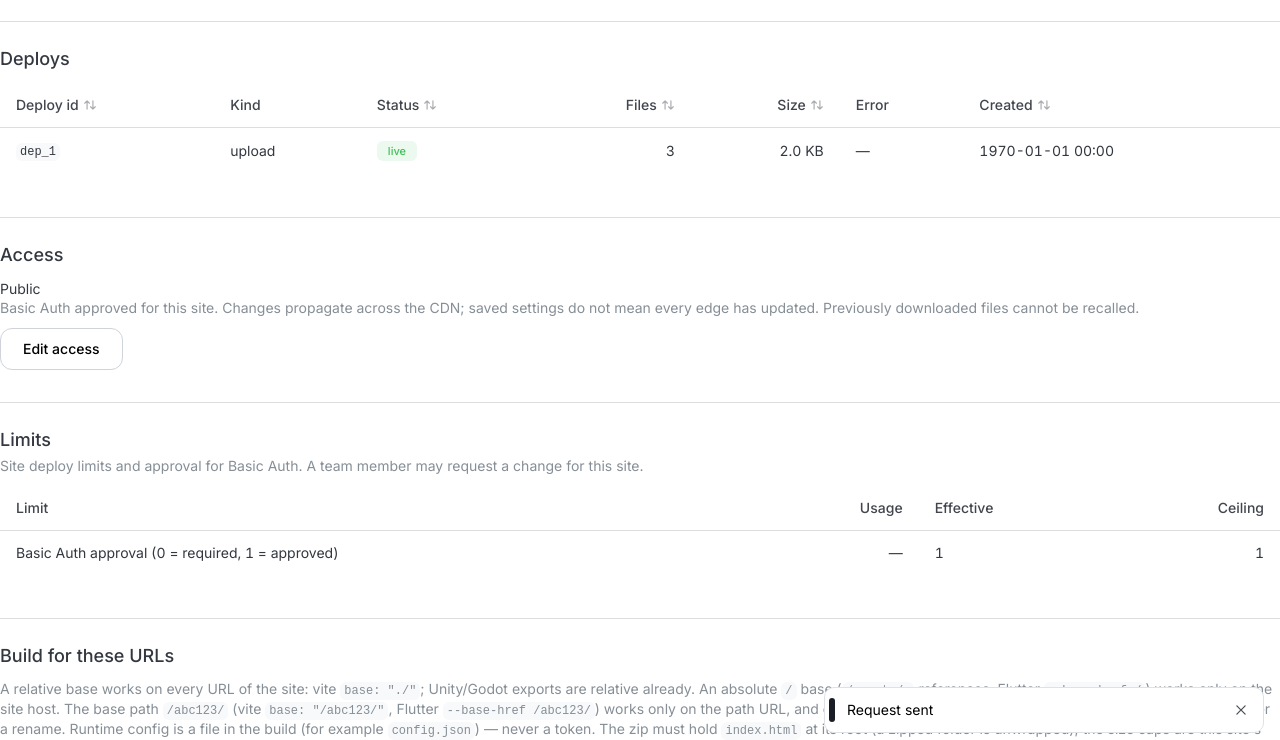
Scenario: SitePage › requires credentials after approval instead of opening another request
(page scrolled)
Click the button "Edit access" at point(61, 349), box [0,328,122,370]
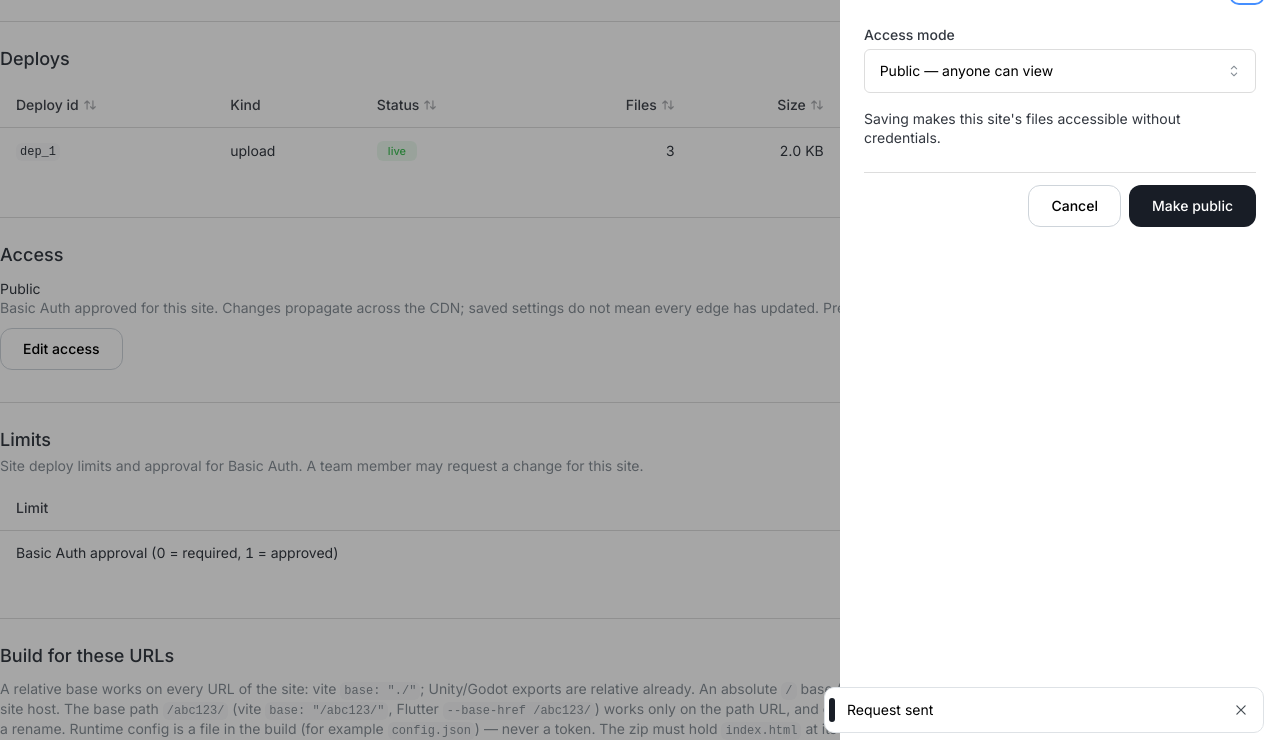
Select "Basic Auth — approved sites only" in the dropdown labelled "Access mode" at point(1060, 71), box [864,49,1256,93]
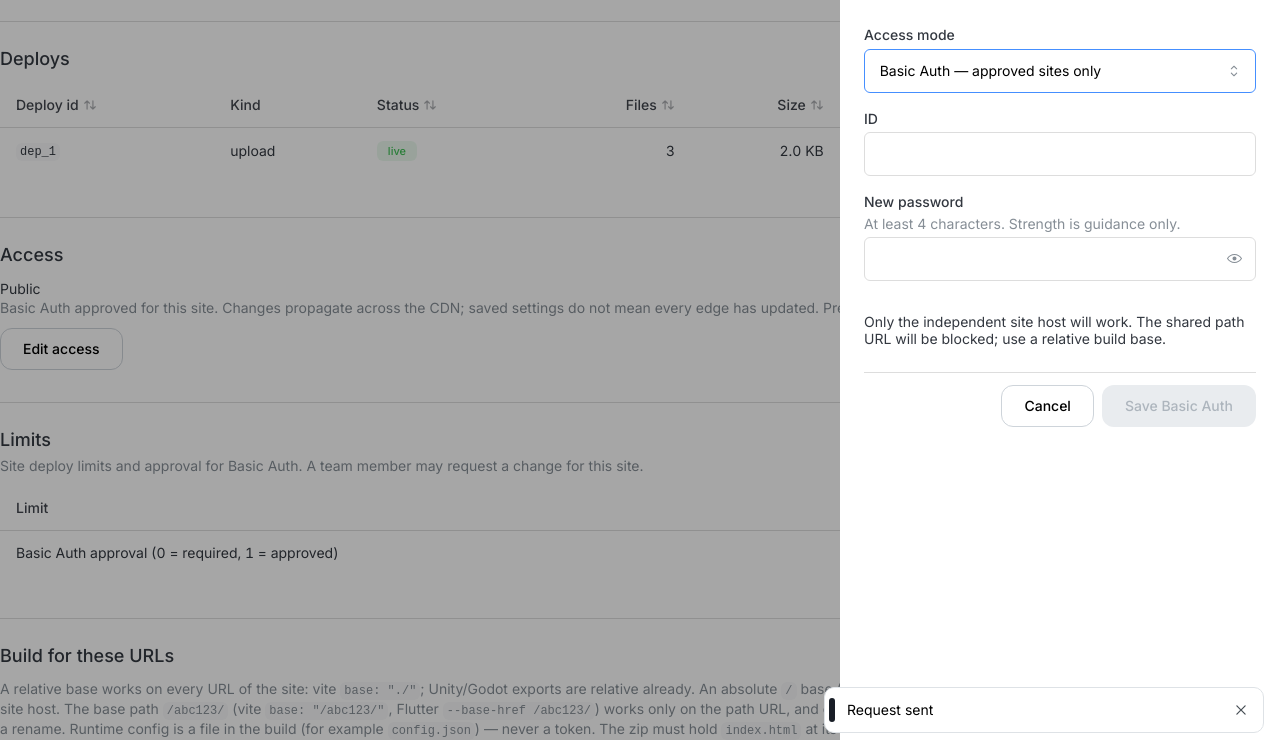
Expected: the password field labelled "New password" is shown, [865,238,1255,280]
Expected: the button "Save Basic Auth" is disabled, [1102,385,1256,427]
